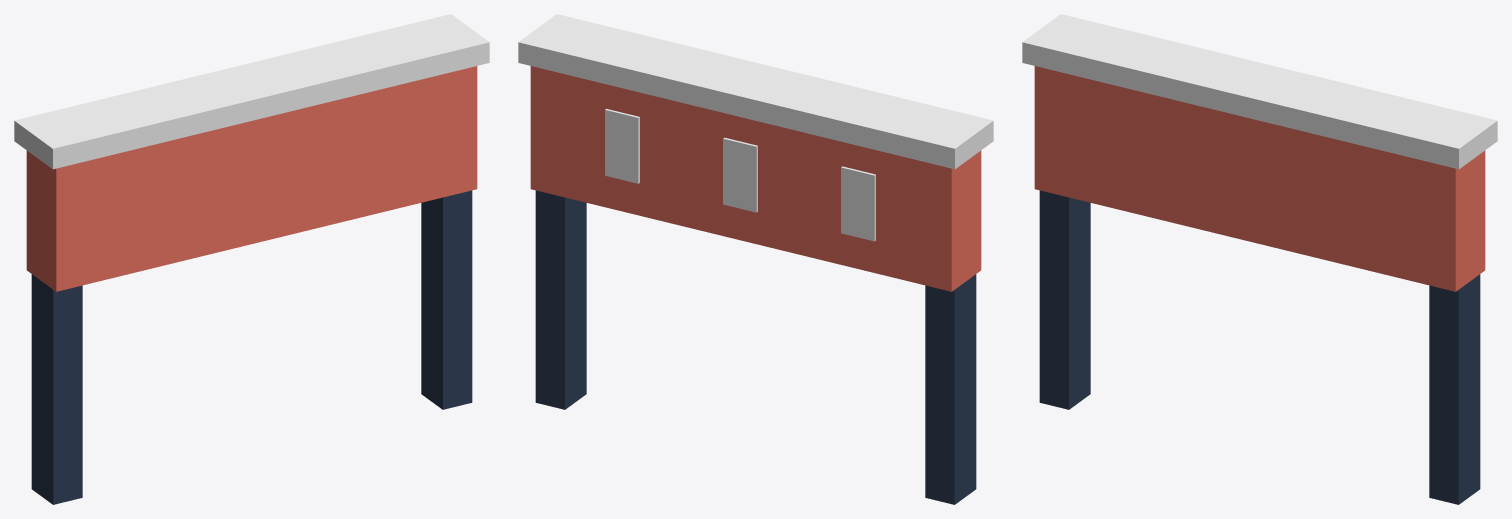
Rendered from high_beam.glb.
3 renders of one model, left to right at view 1: azimuth 30°, elevation 25°; view 2: azimuth 150°, elevation 25°; view 3: azimuth 330°, elevation 25°, orthographic.
Visible parts, largest first — view 1: Prop_high_beam; view 2: Prop_high_beam; view 3: Prop_high_beam.
Part boxes in pixels (box(x1,y1,x2,y2)): Prop_high_beam: box(14, 14, 489, 504); Prop_high_beam: box(518, 14, 993, 504); Prop_high_beam: box(1022, 14, 1497, 504).
Bounding box in the file's own units: 2.22 × 1.77 × 0.34.
